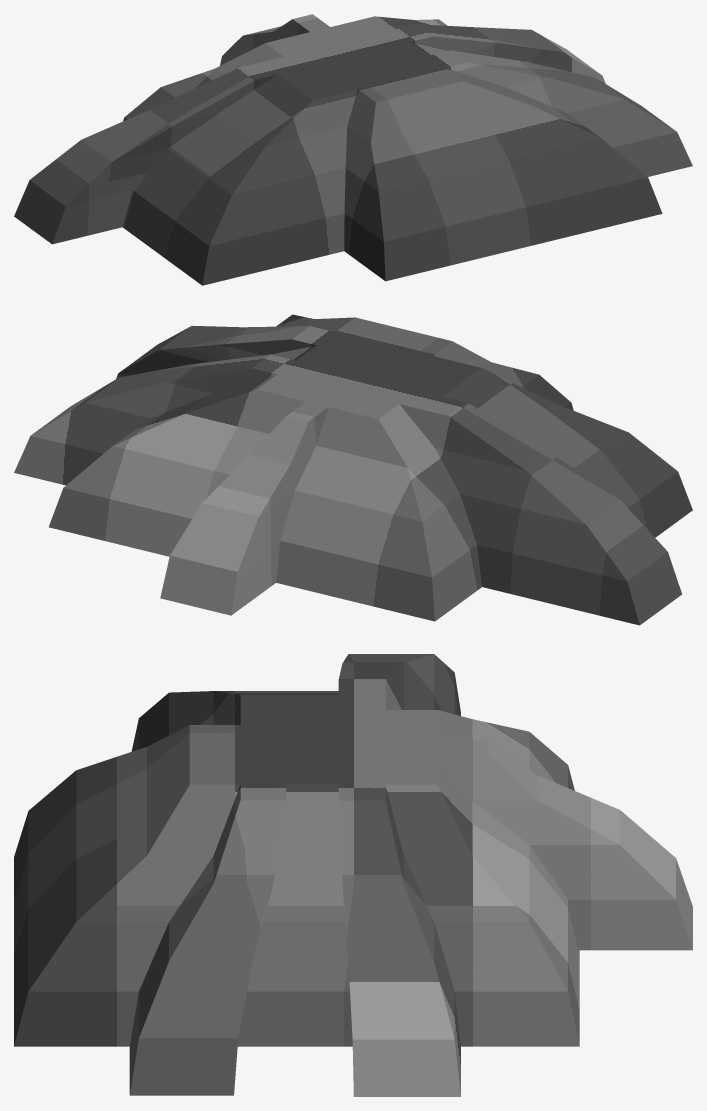
Rendered from small_rock_203x08.gltf.
3 renders of one model, top to bottom at view 1: azimuth 30°, elevation 25°; view 2: azimuth 150°, elevation 25°; view 3: azimuth 270°, elevation 25°, orthographic. The views are drawn at different scales.
Parts seen in each view (by area): view 1: small_rock_203x08; view 2: small_rock_203x08; view 3: small_rock_203x08.
Part boxes in pixels (bbox=[...]): small_rock_203x08: bbox=[14, 14, 692, 285]; small_rock_203x08: bbox=[14, 314, 692, 625]; small_rock_203x08: bbox=[14, 654, 692, 1096].
Size of the model in its own units: 0.8658 by 0.1767 by 0.6456.
Materials: 1 (1 with a texture image).
